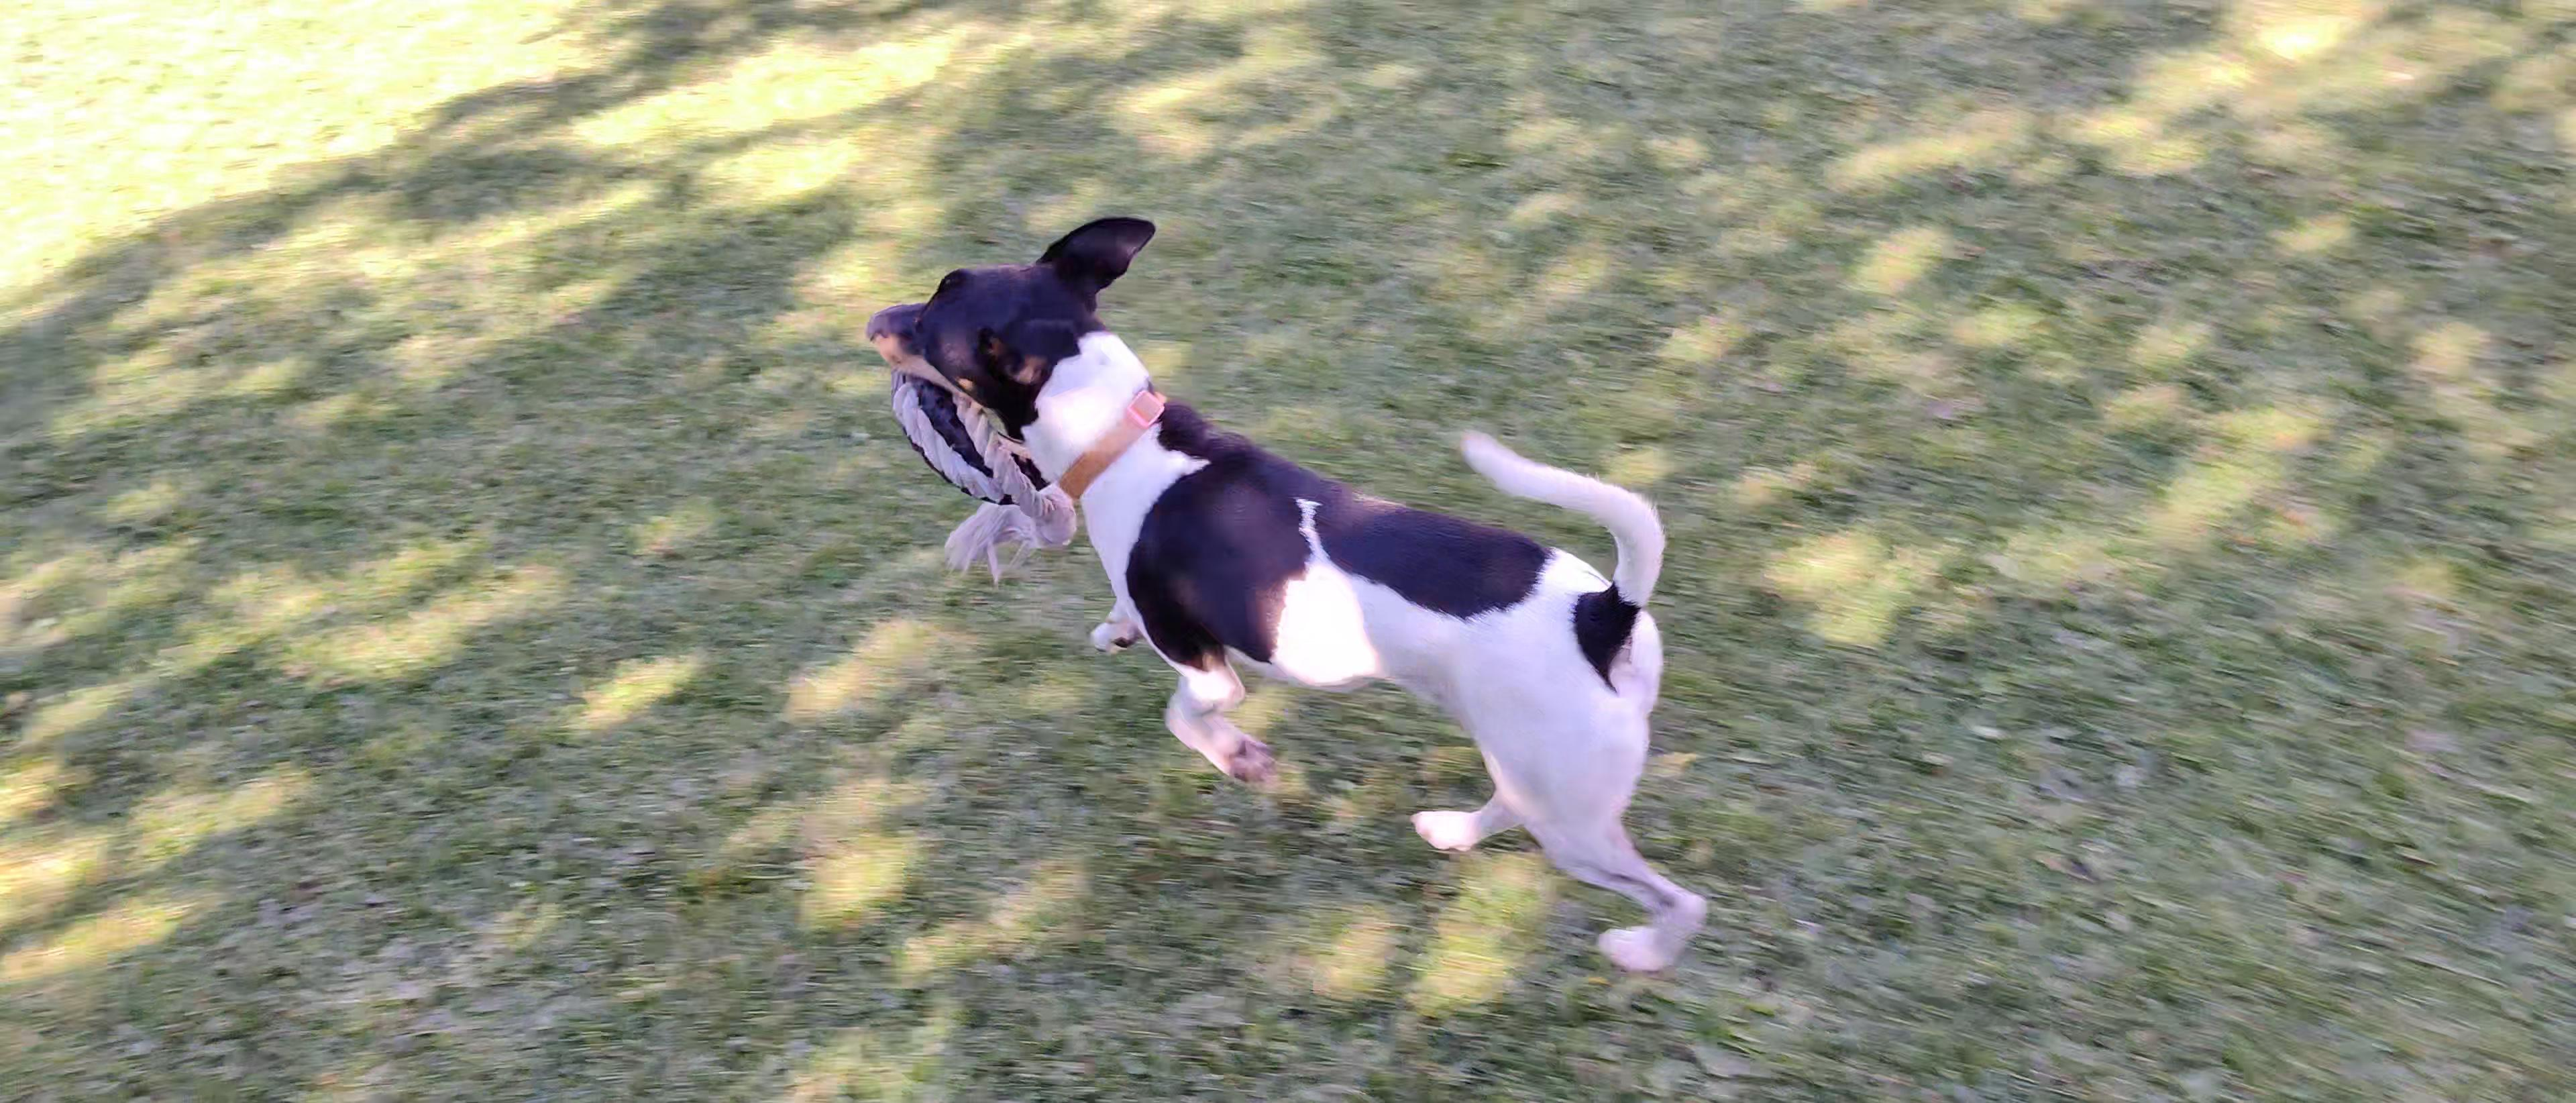Dog: (859, 194, 1735, 983)
